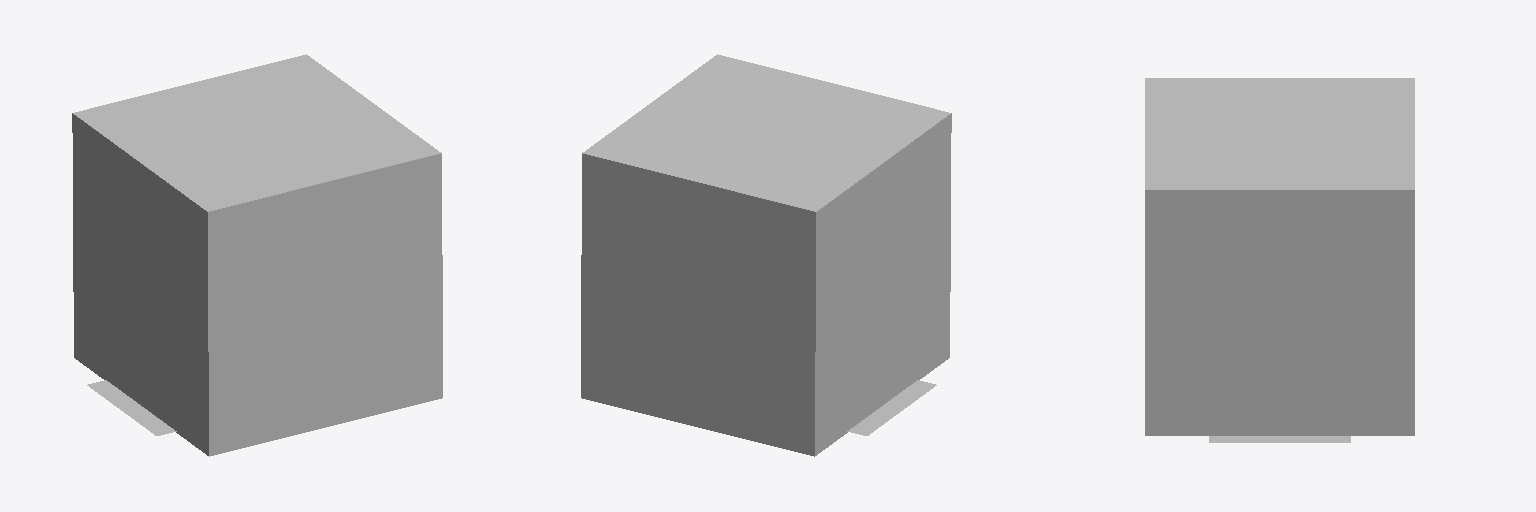
File: S_head.obj
The picture shows the model from 3 angles: view 1: azimuth 30°, elevation 25°; view 2: azimuth 150°, elevation 25°; view 3: azimuth 270°, elevation 25°; orthographic projection.
Visible parts, largest first — view 1: mesh01; view 2: mesh01; view 3: mesh01.
Part boxes in pixels (x1,y1,x2,y2): mesh01: (72, 54, 442, 456); mesh01: (581, 54, 951, 456); mesh01: (1145, 78, 1414, 442).
Bounding box in the file's own units: 2.3 × 2.01 × 2.